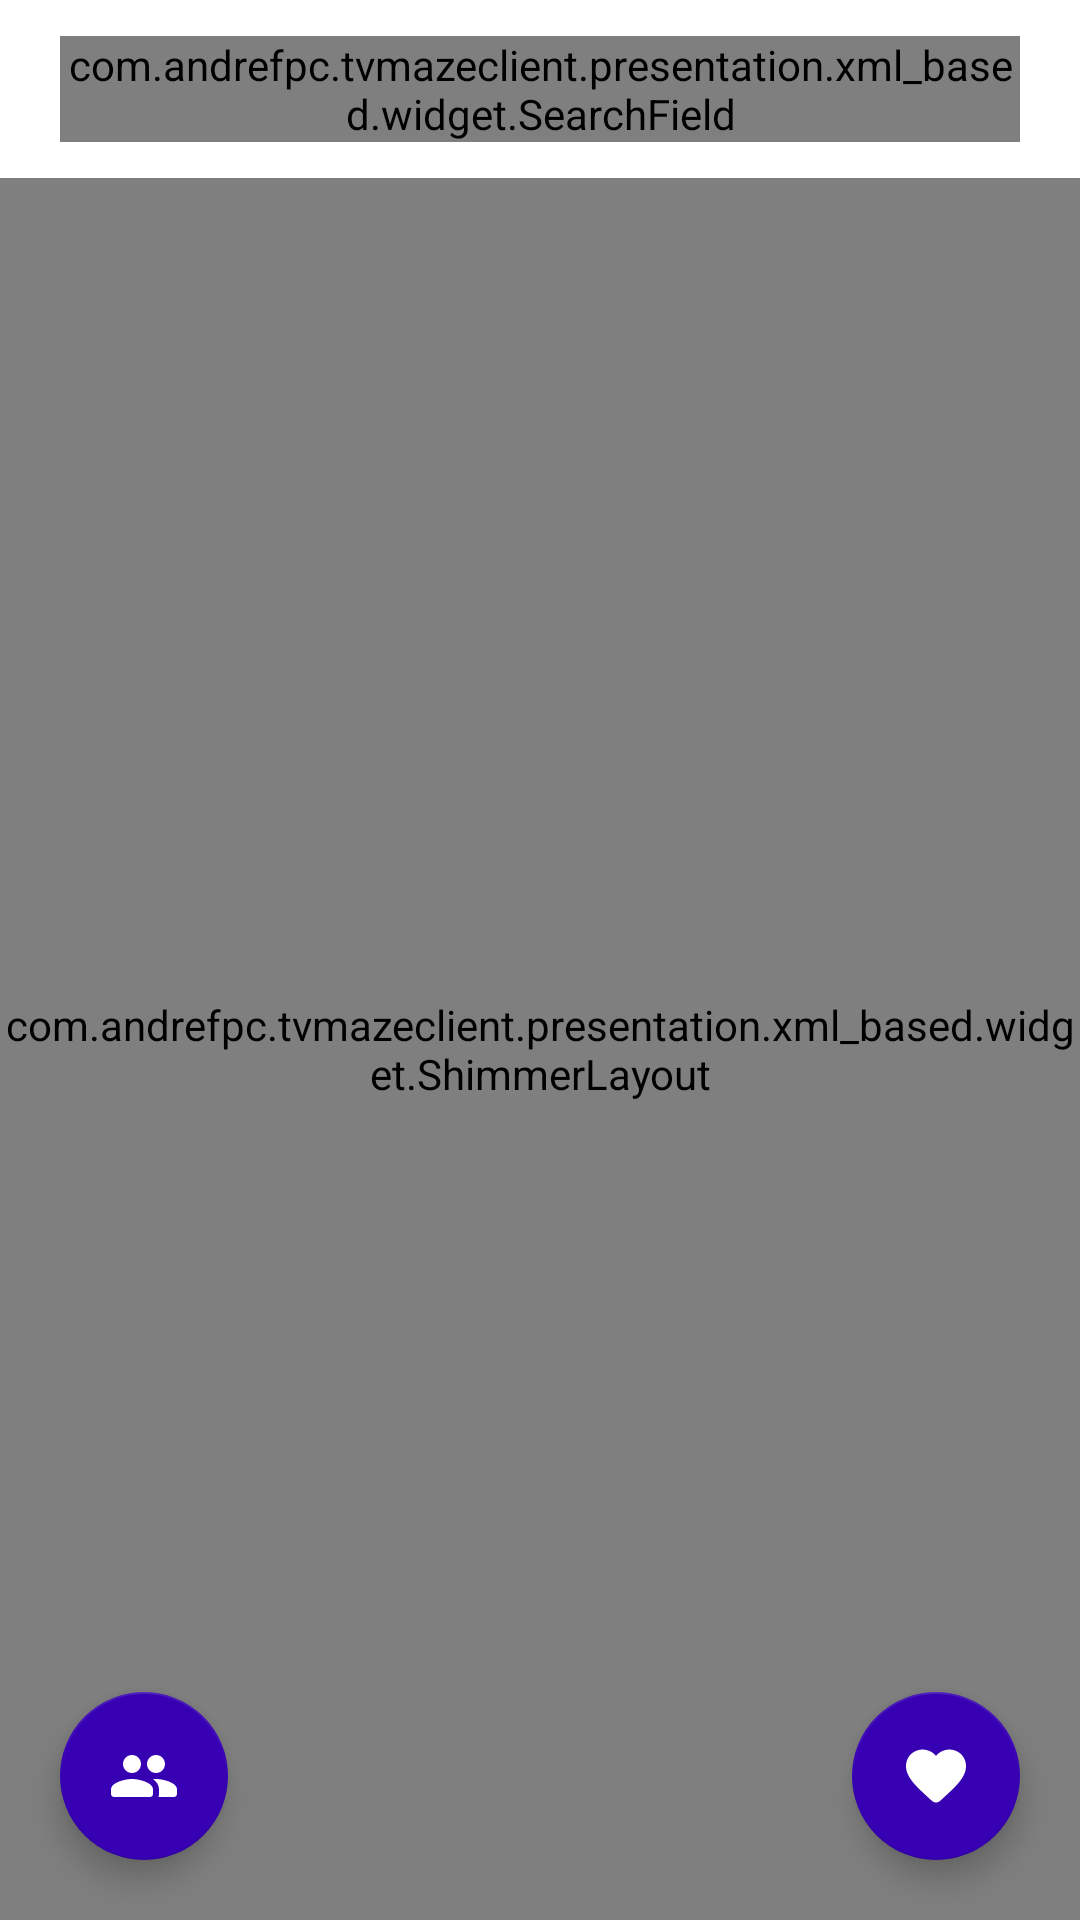

Where to tap for icons on this 1080×1920 app screen, as [x,y]:
favorite: [936,1776]
people: [144,1776]
